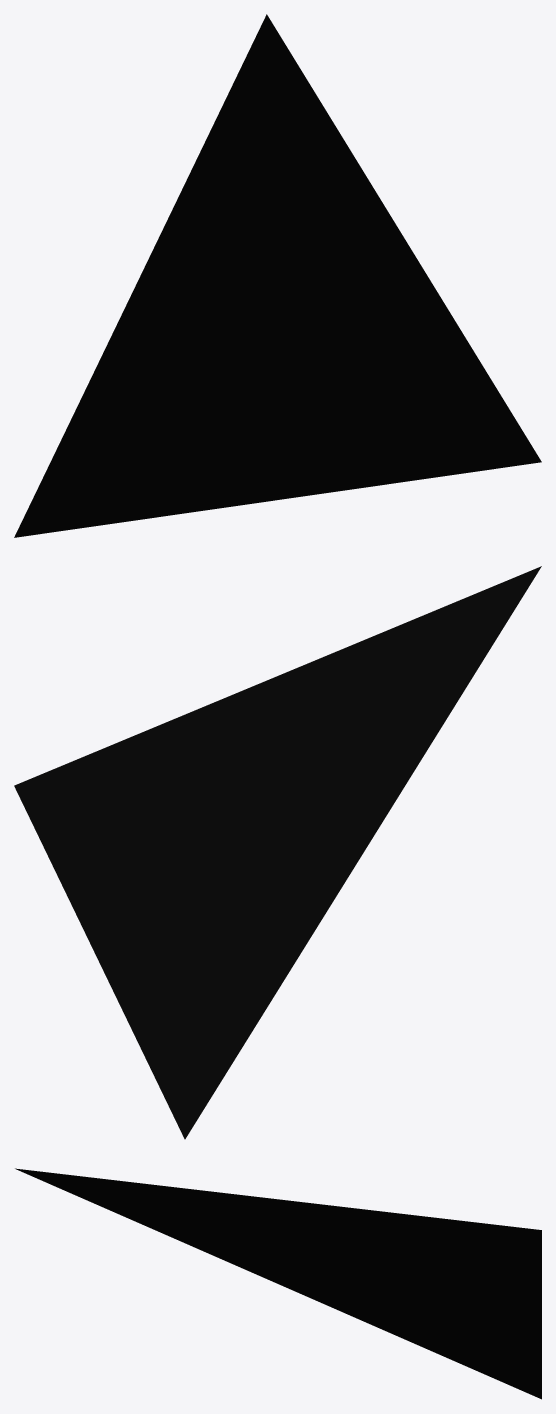
3 views of the same model, one above another, from view 1: azimuth 30°, elevation 25°; view 2: azimuth 150°, elevation 25°; view 3: azimuth 270°, elevation 25° (orthographic). The views are drawn at different scales.
Bounding box in the file's own units: 0.5707 × 0.9969 × 2.06.
Materials: 1 (1 with a texture image).
